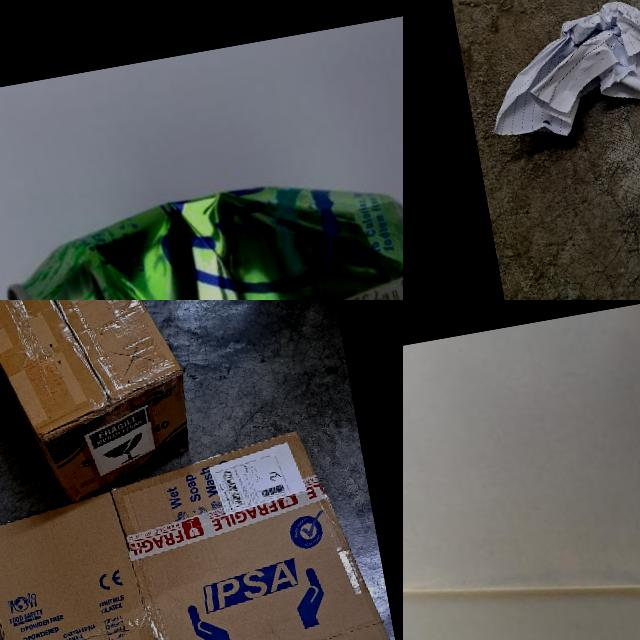lata: (0, 152, 403, 300)
papel: (403, 300, 640, 640), (475, 0, 640, 149)
papelão: (0, 417, 403, 640), (0, 300, 198, 515)
